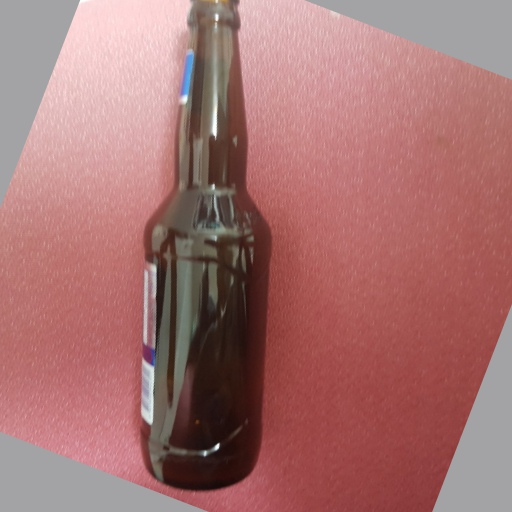Glass_1: (140, 1, 273, 497)
